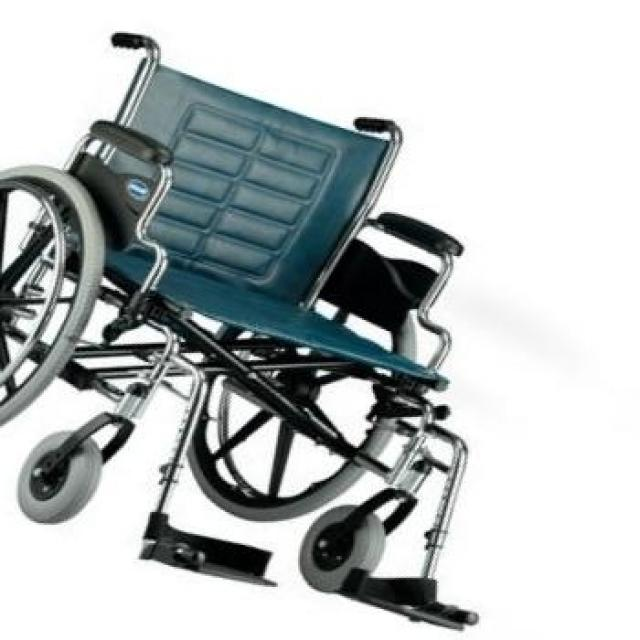wheelchair: (0, 13, 494, 640)
